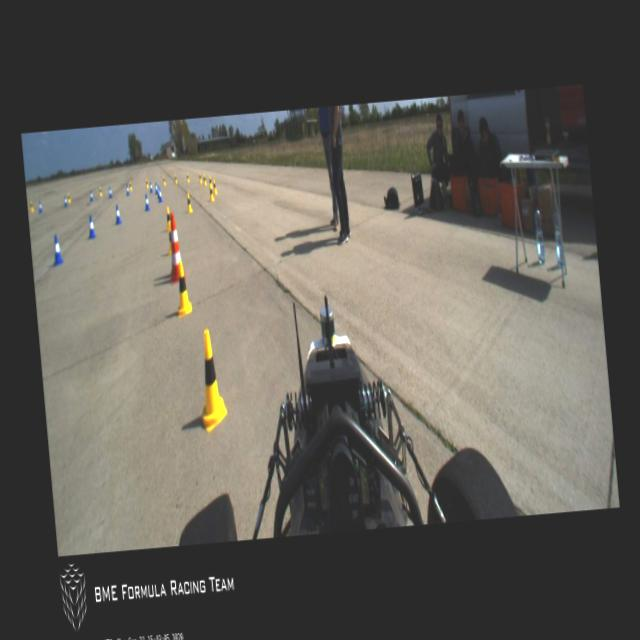blue_cone: (51, 233, 64, 264), (86, 215, 95, 238), (114, 204, 121, 223), (144, 193, 150, 209), (62, 194, 68, 207), (157, 188, 162, 202), (156, 185, 160, 198), (108, 186, 112, 198), (154, 182, 158, 194), (38, 201, 42, 212), (148, 181, 152, 192), (89, 190, 93, 200), (126, 183, 129, 194)
large_orange_cone: (165, 212, 185, 283)
yellow_cone: (193, 328, 229, 433), (172, 260, 192, 316), (164, 219, 173, 256), (164, 206, 171, 231), (185, 191, 192, 213), (208, 182, 214, 202), (212, 178, 217, 195), (29, 200, 34, 212), (208, 174, 212, 188), (202, 172, 206, 185), (198, 171, 202, 184), (67, 192, 71, 204), (98, 186, 102, 196), (128, 180, 132, 190), (145, 178, 149, 188), (186, 172, 189, 182), (174, 174, 177, 182), (162, 176, 165, 184)
